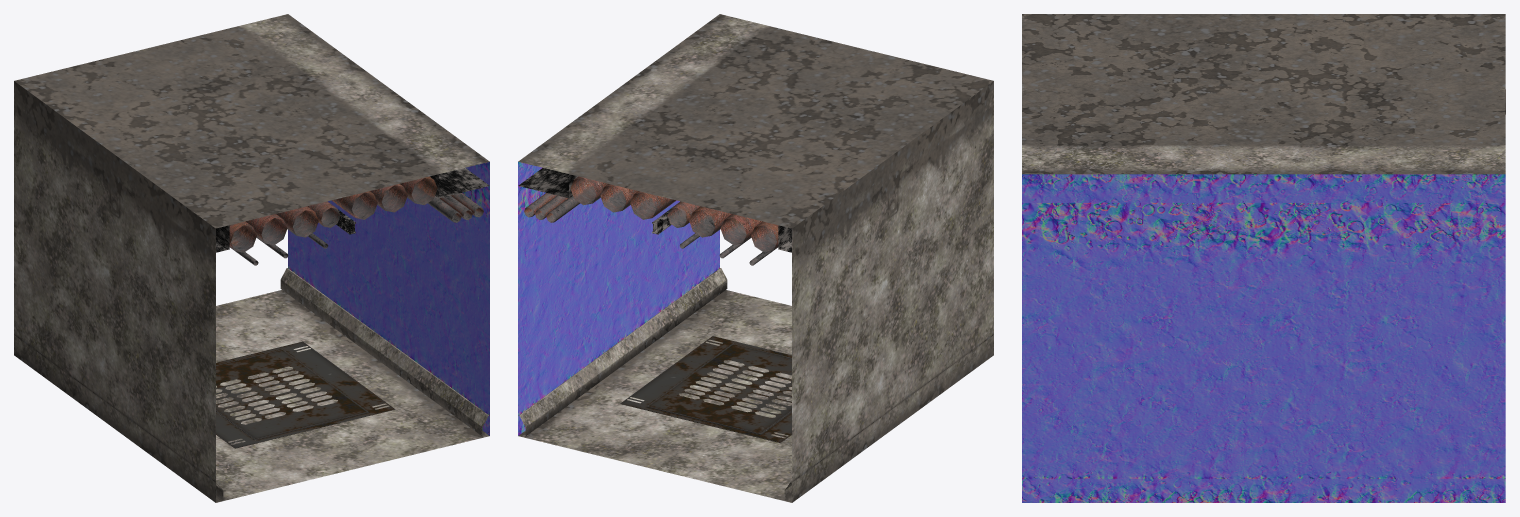
File: CorridorGrillIssue.fbx
3 renders of one model, left to right at view 1: azimuth 30°, elevation 25°; view 2: azimuth 150°, elevation 25°; view 3: azimuth 270°, elevation 25°, orthographic. The views are drawn at different scales.
Visible parts, largest first — view 1: Wall_045, Wall_044, Wall_046, Floor, Grill, WallSkirt2, Pipes1_007, Pipe2_010, Vent1; view 2: Wall_045, Wall_044, Wall_046, Floor, Grill, WallSkirt2, Pipes1_007, Pipe2_010, Vent1; view 3: Wall_046, Wall_044.
Boxes of the visible parts, x1=… form: Wall_045: x1=14, y1=81, x2=215, y2=502; Wall_044: x1=14, y1=14, x2=489, y2=228; Wall_046: x1=288, y1=162, x2=489, y2=435; Floor: x1=216, y1=290, x2=489, y2=502; Grill: x1=216, y1=341, x2=395, y2=448; WallSkirt2: x1=216, y1=268, x2=488, y2=501; Pipes1_007: x1=229, y1=176, x2=437, y2=252; Pipe2_010: x1=235, y1=193, x2=483, y2=265; Vent1: x1=430, y1=168, x2=489, y2=198; Wall_045: x1=792, y1=81, x2=993, y2=502; Wall_044: x1=518, y1=14, x2=993, y2=228; Wall_046: x1=518, y1=162, x2=719, y2=435; Floor: x1=518, y1=290, x2=791, y2=502; Grill: x1=620, y1=336, x2=791, y2=442; WallSkirt2: x1=519, y1=268, x2=791, y2=501; Pipes1_007: x1=570, y1=176, x2=778, y2=252; Pipe2_010: x1=524, y1=193, x2=772, y2=265; Vent1: x1=518, y1=168, x2=577, y2=198; Wall_046: x1=1022, y1=174, x2=1505, y2=502; Wall_044: x1=1022, y1=14, x2=1505, y2=174.
Bounding box in the file's own units: 314 × 301 × 400.
